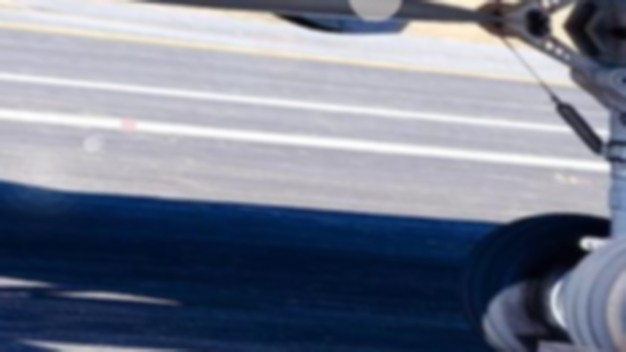wheel: (406, 195, 626, 352)
